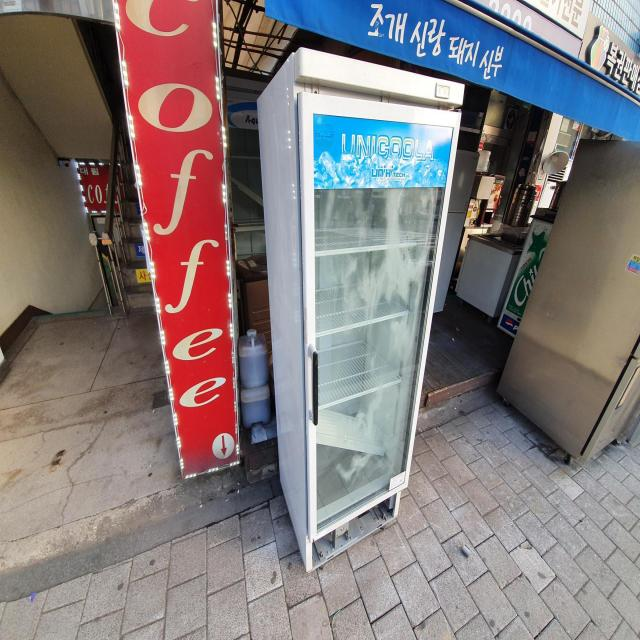refrigerator: (252, 45, 464, 574)
